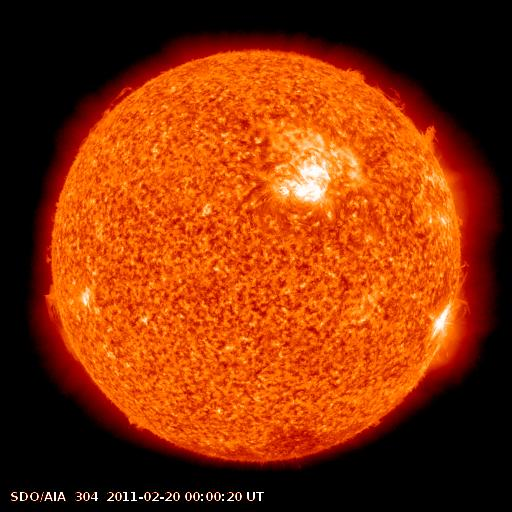prominence: (28, 279, 87, 366), (338, 52, 412, 117), (79, 79, 139, 138), (416, 110, 458, 161), (26, 229, 69, 274)
